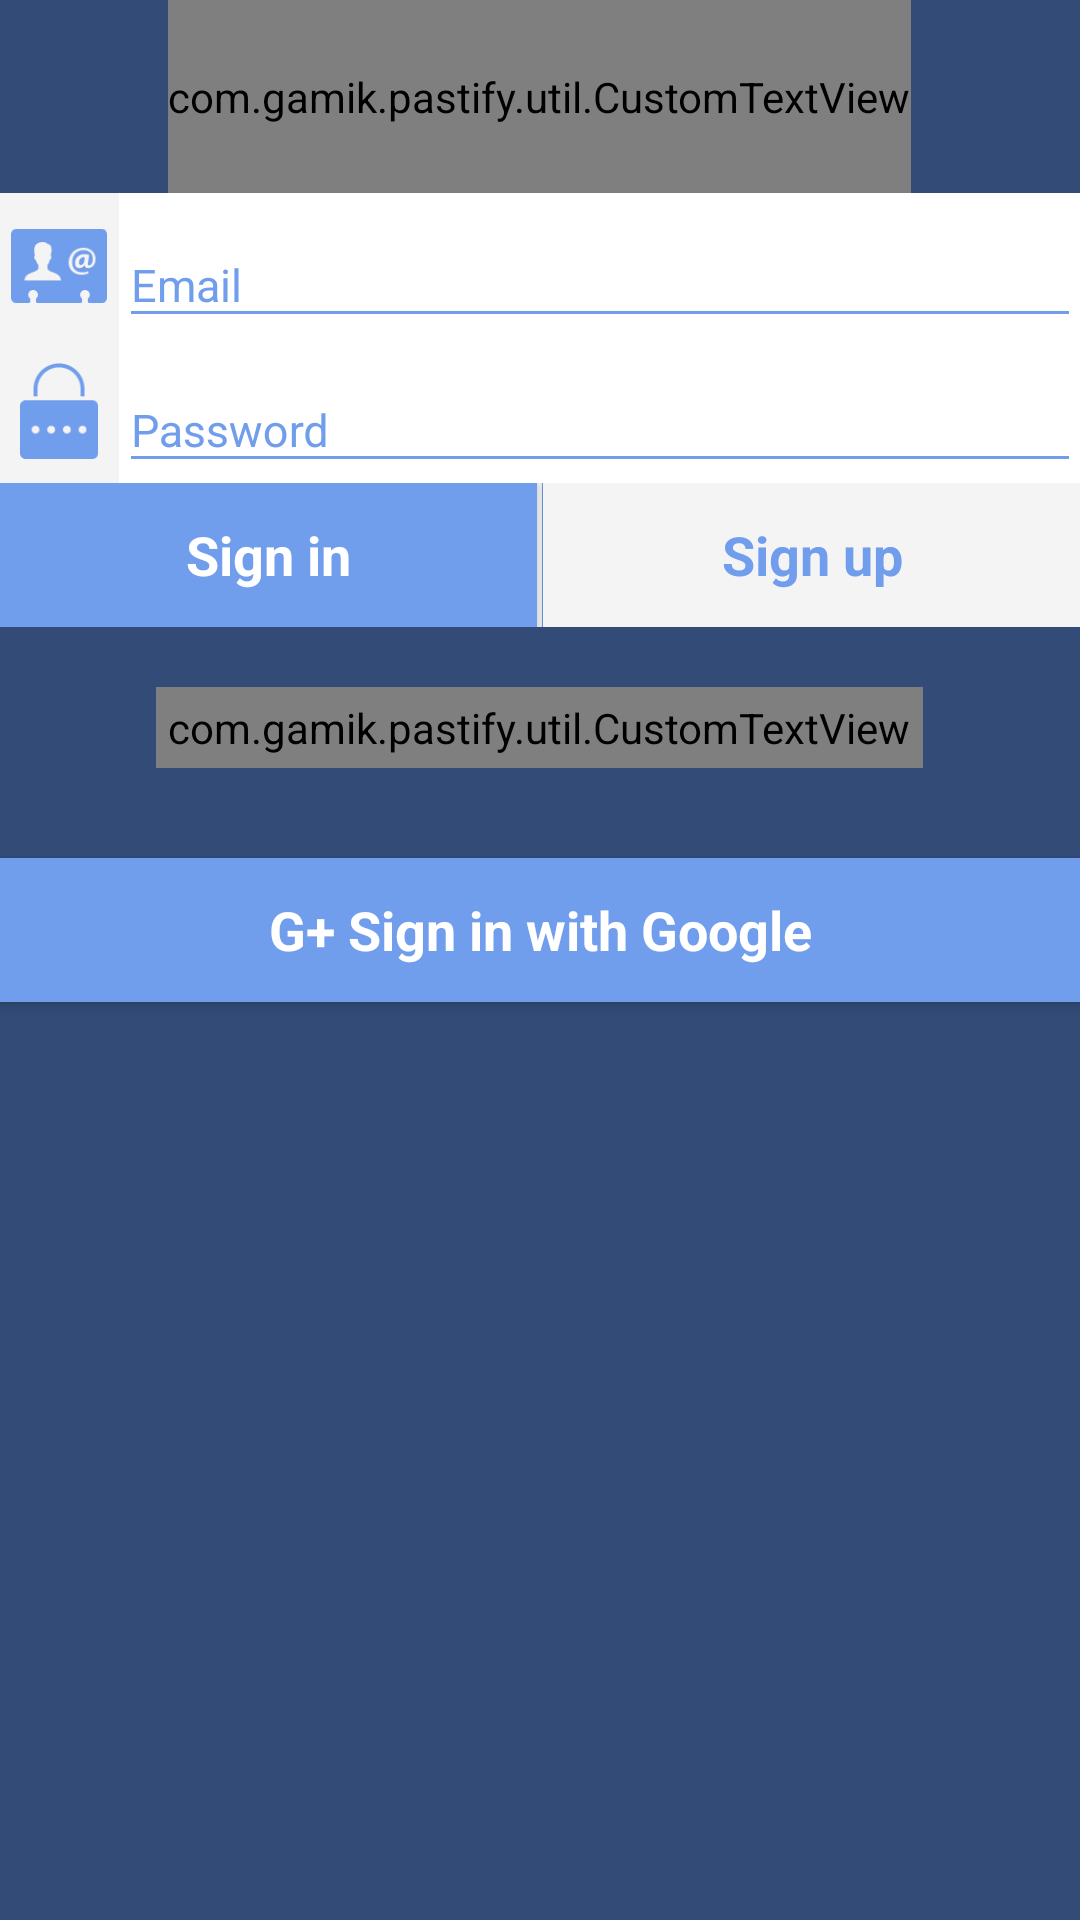

Icon bounding boxes for this 1080 x 1920 phone screenshot, format bbox(x1, y1, x2, y2):
business contact: bbox(11, 229, 107, 303)
